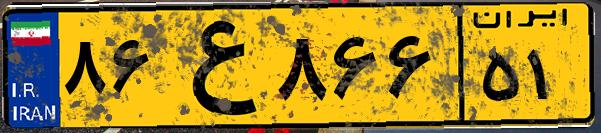1: (525, 38, 570, 115)
5: (475, 38, 525, 113)
6: (385, 28, 445, 110), (330, 28, 385, 110), (110, 28, 158, 98)
8: (270, 28, 330, 110), (57, 26, 110, 100)
ع: (158, 12, 270, 120)
